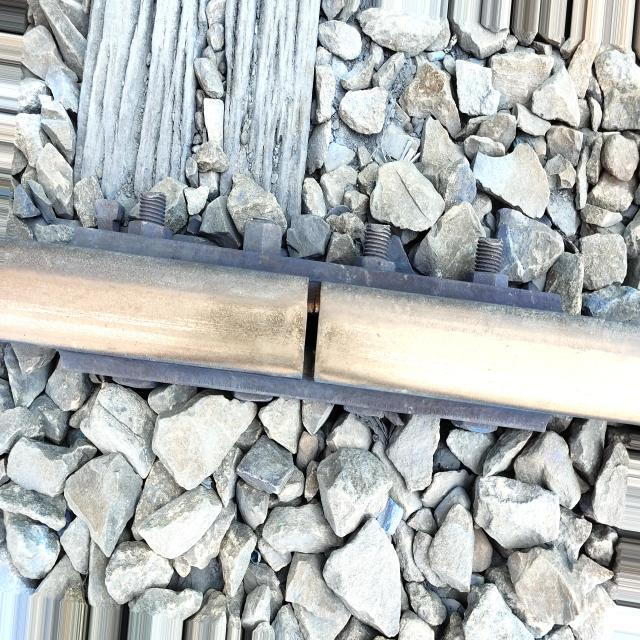Good Joint: (48, 202, 604, 448)
